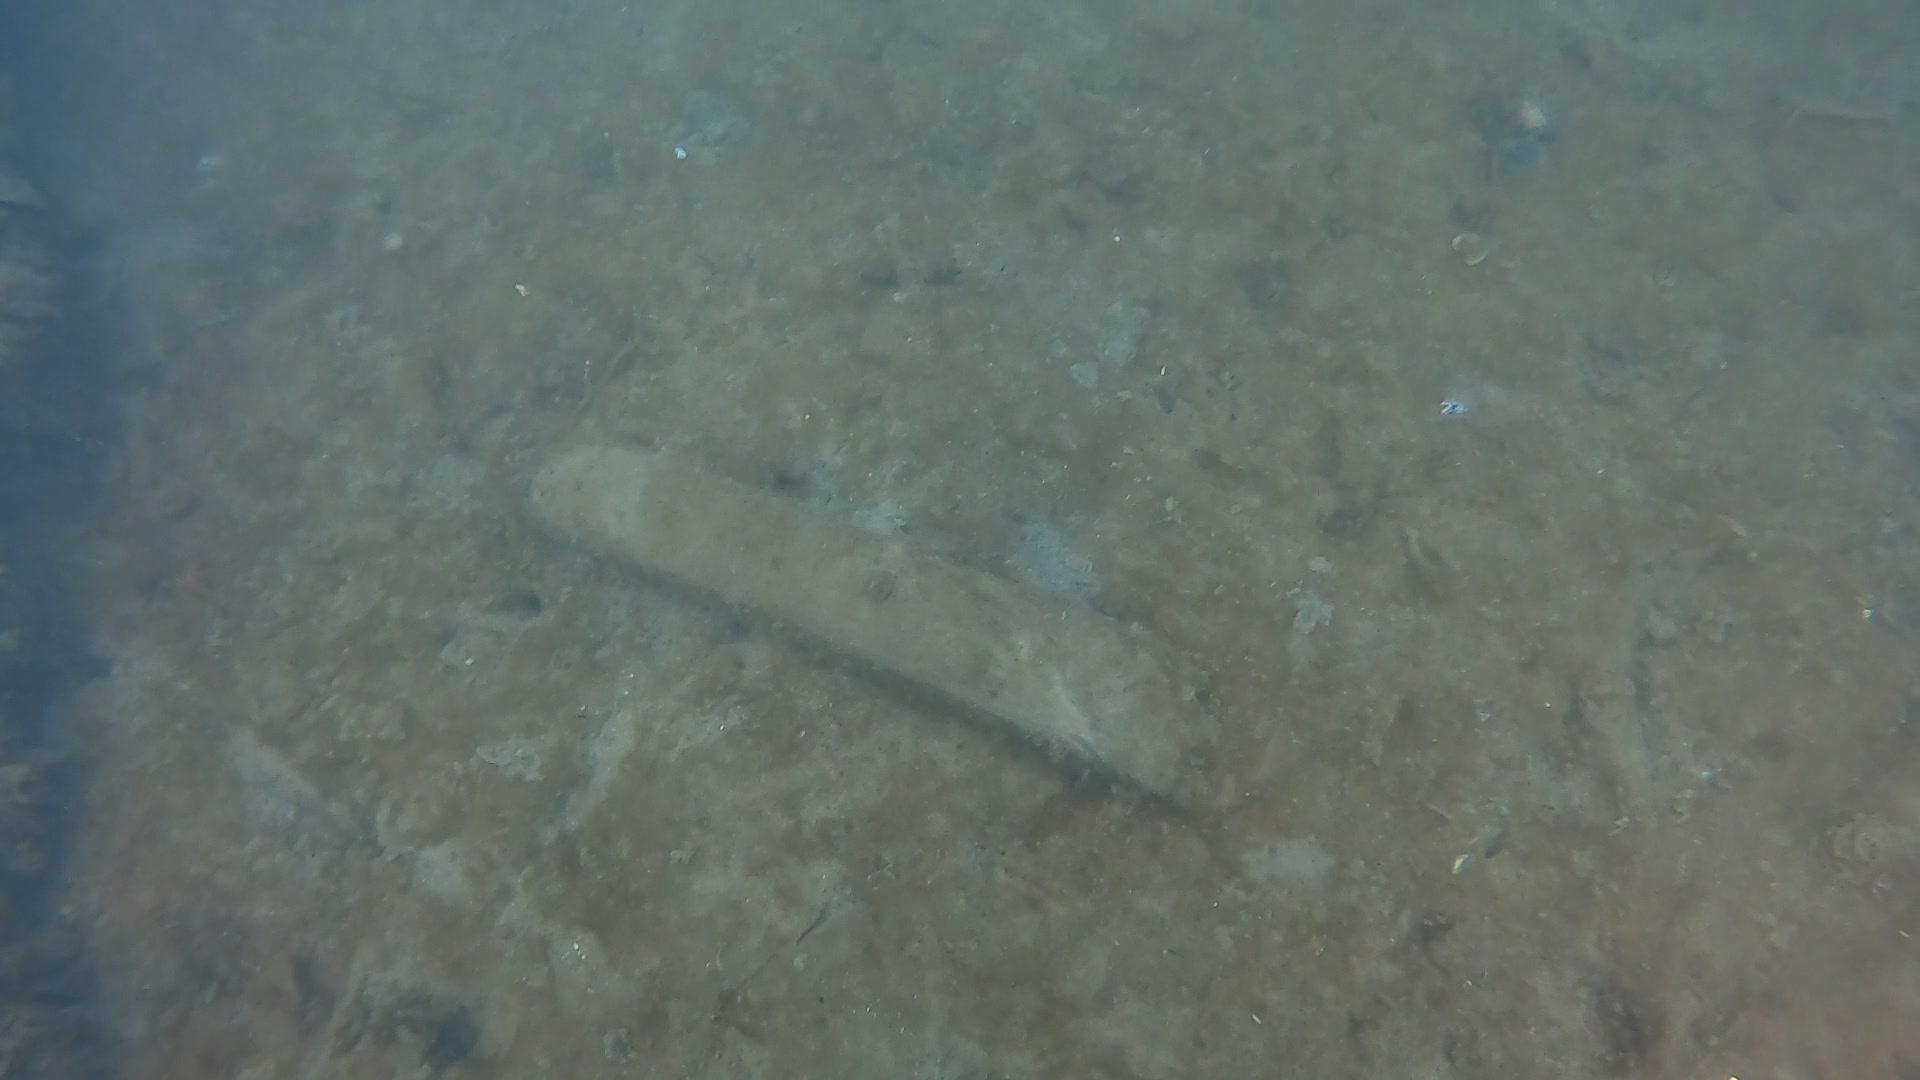wood: (522, 433, 1311, 818)
